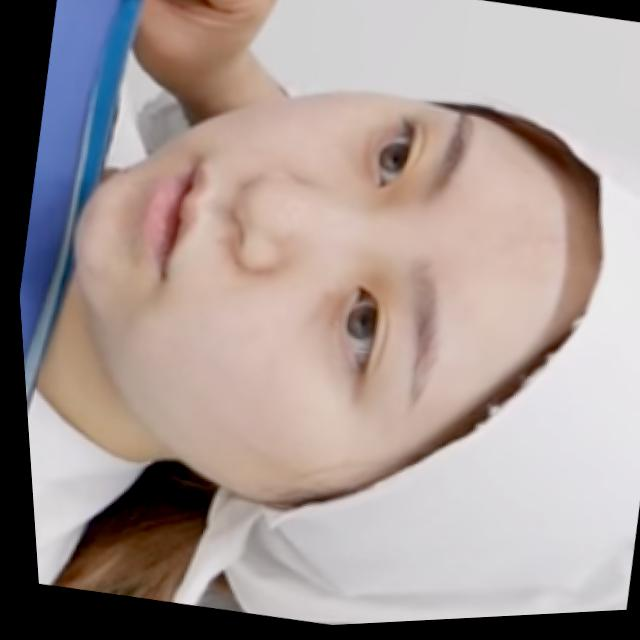face: (2, 24, 602, 580)
